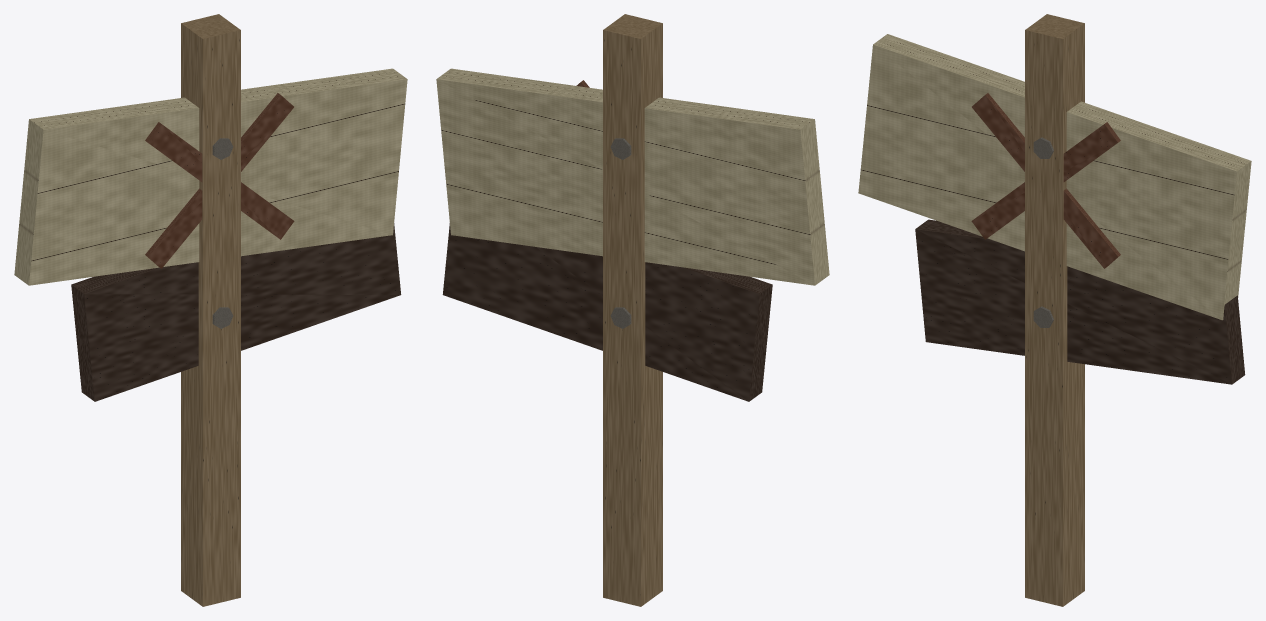
Rendered from warning_sign.glb.
3 renders of one model, left to right at view 1: azimuth 30°, elevation 25°; view 2: azimuth 150°, elevation 25°; view 3: azimuth 330°, elevation 25°, orthographic.
Parts seen in each view (by area): view 1: warning_sign; view 2: warning_sign; view 3: warning_sign.
Part boxes in pixels (x1,y1,x2,y2): warning_sign: (14,14,407,606); warning_sign: (436,14,829,606); warning_sign: (858,14,1251,606).
Bounding box in the file's own units: 1.5 × 2.15 × 0.17.
1 material, 1 textured.
